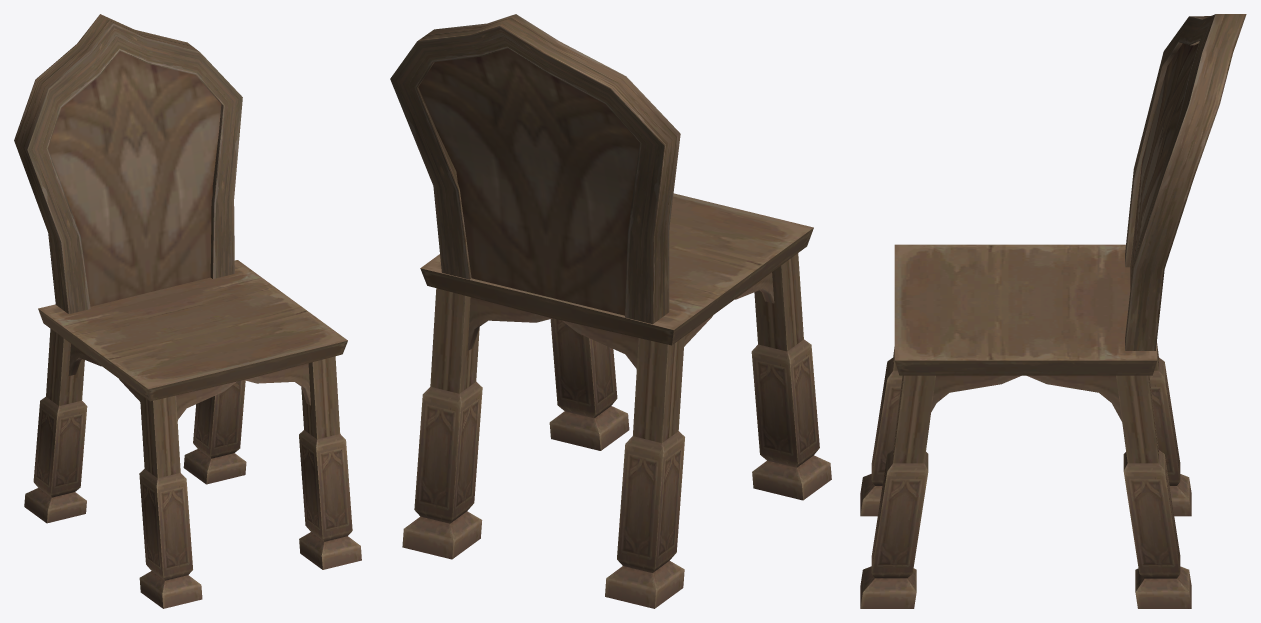
File: Homeworld_Interior_Xm_Chair_Prop_Citysmall_01_Vo.fbx
The picture shows the model from 3 angles, left to right: view 1: azimuth 30°, elevation 25°; view 2: azimuth 150°, elevation 25°; view 3: azimuth 270°, elevation 25°; orthographic projection. The views are drawn at different scales.
Visible parts, largest first — view 1: Area_Xm_Prop_XKC_Chair_02_Lod0; view 2: Area_Xm_Prop_XKC_Chair_02_Lod0; view 3: Area_Xm_Prop_XKC_Chair_02_Lod0.
Boxes of the visible parts, x1,y1,x2,y2 form: Area_Xm_Prop_XKC_Chair_02_Lod0: [14, 14, 361, 608]; Area_Xm_Prop_XKC_Chair_02_Lod0: [390, 14, 831, 608]; Area_Xm_Prop_XKC_Chair_02_Lod0: [860, 14, 1246, 608].
Size of the model in its own units: 0.5403 by 1.08 by 0.7033.
